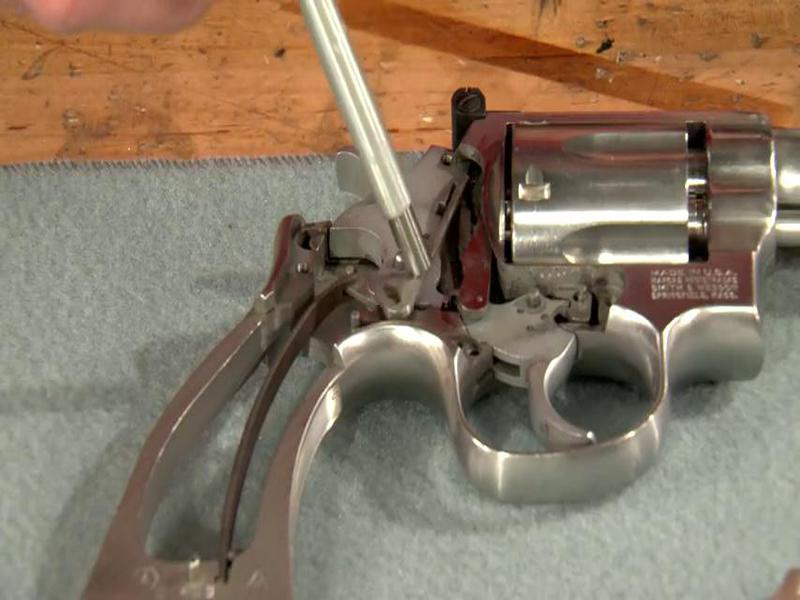Revolver: (73, 62, 800, 573)
